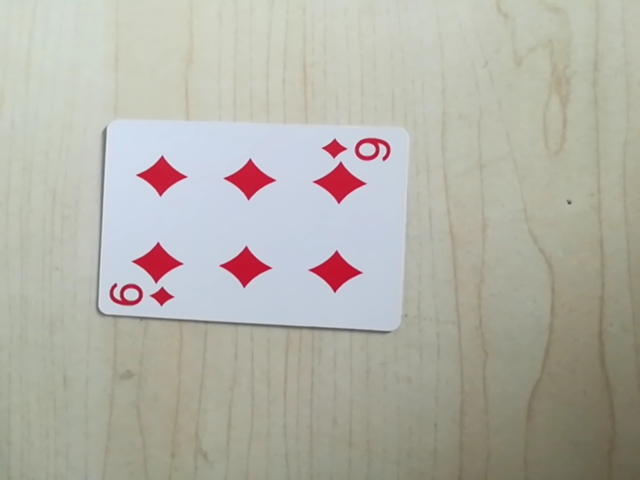fk 6: (318, 129, 398, 167), (105, 282, 178, 316)
